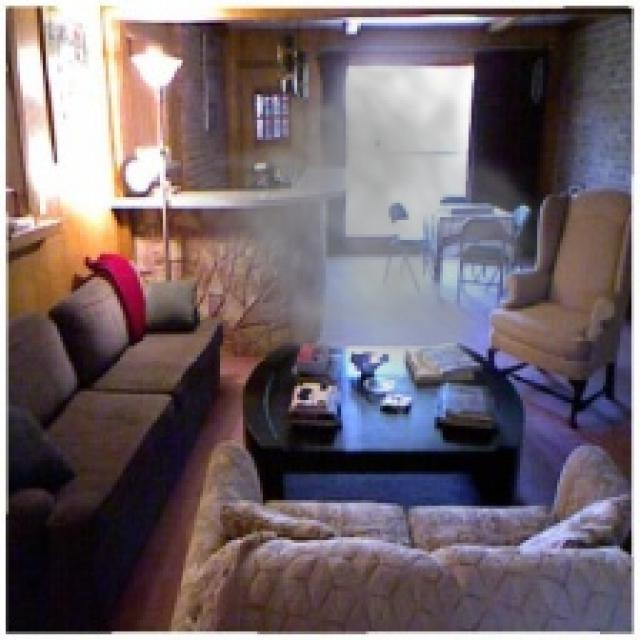smoke: (174, 11, 566, 392)
